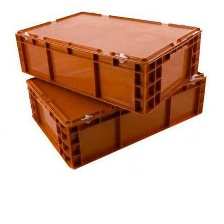plastic_box: (8, 4, 207, 120), (20, 55, 211, 174)
